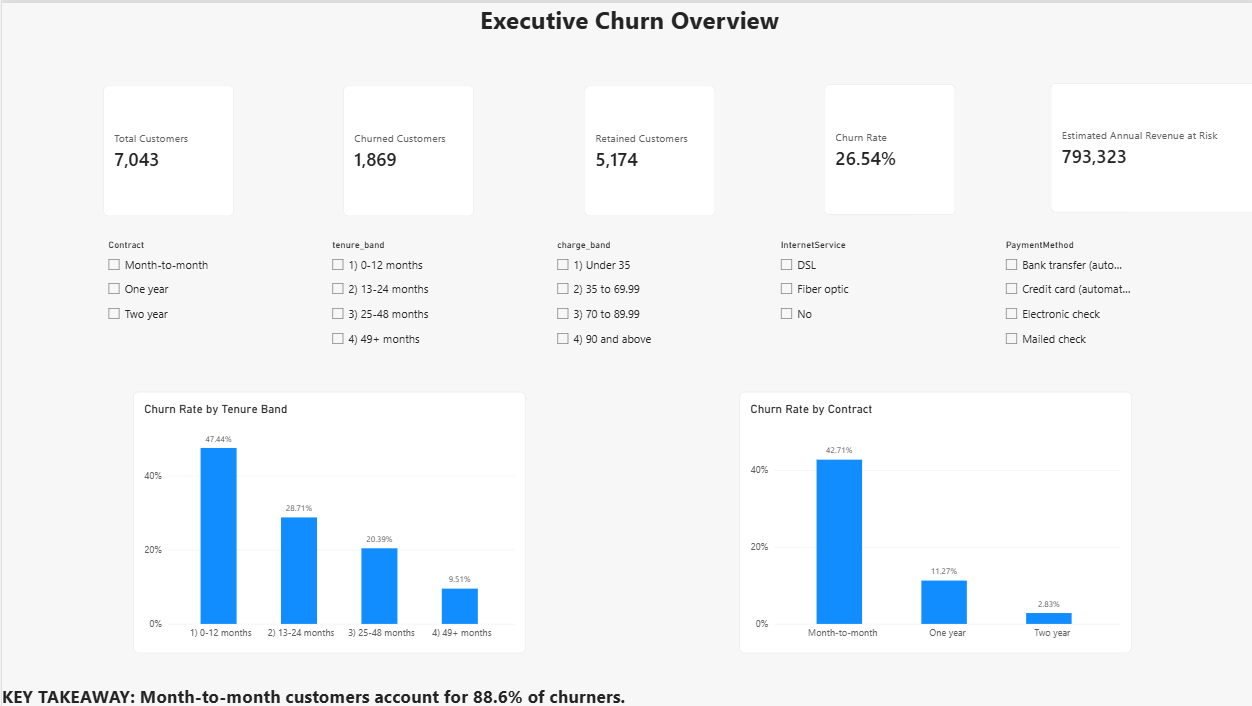

The page's visual inventory and layout, read from the dashboard file:
{"tool":"powerbi","page":{"name":"Executive Overview","canvas":[1920,1080],"ordinal":0},"visuals":[{"type":"cardVisual","fields":{"Data":["telco_customer_churn_clean.Total Customers"]},"box":[154.3,125.7,200,200],"z":0},{"type":"cardVisual","fields":{"Data":["telco_customer_churn_clean.Retained Customers"]},"box":[890.8,125.7,200,200],"z":1000},{"type":"cardVisual","fields":{"Data":["telco_customer_churn_clean.Churned Customers"]},"box":[522.6,125.7,200,200],"z":2000},{"type":"cardVisual","fields":{"Data":["telco_customer_churn_clean.Churn Rate"]},"box":[1259,123.5,200,200],"z":3000},{"type":"clusteredColumnChart","title":"Churn Rate by Tenure Band","fields":{"Category":["telco_customer_churn_clean.tenure_band"],"Y":["telco_customer_churn_clean.Churn Rate"]},"box":[200.6,595.3,600,400],"z":5000},{"type":"clusteredColumnChart","fields":{"Category":["telco_customer_churn_clean.Contract"],"Y":["telco_customer_churn_clean.Churn Rate"]},"box":[1128.9,595.3,600,400],"z":6000},{"type":"textbox","box":[0,1042.9,1920.4,37.5],"z":7000},{"type":"slicer","fields":{"Values":["telco_customer_churn_clean.Contract"]},"box":[154.3,361.6,200,200],"z":8000},{"type":"slicer","fields":{"Values":["telco_customer_churn_clean.InternetService"]},"box":[1184.6,361.6,200,200],"z":9000},{"type":"slicer","fields":{"Values":["telco_customer_churn_clean.charge_band"]},"box":[841.2,361.6,200,200],"z":10000},{"type":"slicer","fields":{"Values":["telco_customer_churn_clean.PaymentMethod"]},"box":[1528,361.6,200,200],"z":11000},{"type":"slicer","fields":{"Values":["telco_customer_churn_clean.tenure_band"]},"box":[497.8,361.6,200,200],"z":12000},{"type":"textbox","box":[374.8,123.5,1303.1,198.4],"z":13000},{"type":"textbox","box":[0,0,1920.4,123.5],"z":14000},{"type":"cardVisual","fields":{"Data":["telco_customer_churn_clean.Estimated Annual Revenue at Risk"]},"box":[1604.5,122.4,315.5,198.9],"z":14001}]}

Visuals, with their boxes in screenshot pixels (x1, y1, x2, y2), scaled from the page's 1920x1080 canvas onto the 1252x706 screenshot:
cardVisual - telco_customer_churn_clean.Total Customers: BBox(101, 82, 231, 213)
cardVisual - telco_customer_churn_clean.Retained Customers: BBox(581, 82, 711, 213)
cardVisual - telco_customer_churn_clean.Churned Customers: BBox(341, 82, 471, 213)
cardVisual - telco_customer_churn_clean.Churn Rate: BBox(821, 81, 951, 211)
"Churn Rate by Tenure Band" clusteredColumnChart: BBox(131, 389, 522, 651)
clusteredColumnChart - telco_customer_churn_clean.Contract x telco_customer_churn_clean.Churn Rate: BBox(736, 389, 1127, 651)
textbox: BBox(0, 682, 1251, 705)
slicer - telco_customer_churn_clean.Contract: BBox(101, 236, 231, 367)
slicer - telco_customer_churn_clean.InternetService: BBox(772, 236, 903, 367)
slicer - telco_customer_churn_clean.charge_band: BBox(549, 236, 679, 367)
slicer - telco_customer_churn_clean.PaymentMethod: BBox(996, 236, 1127, 367)
slicer - telco_customer_churn_clean.tenure_band: BBox(325, 236, 455, 367)
textbox: BBox(244, 81, 1094, 210)
textbox: BBox(0, 0, 1251, 81)
cardVisual - telco_customer_churn_clean.Estimated Annual Revenue at Risk: BBox(1046, 80, 1251, 210)
